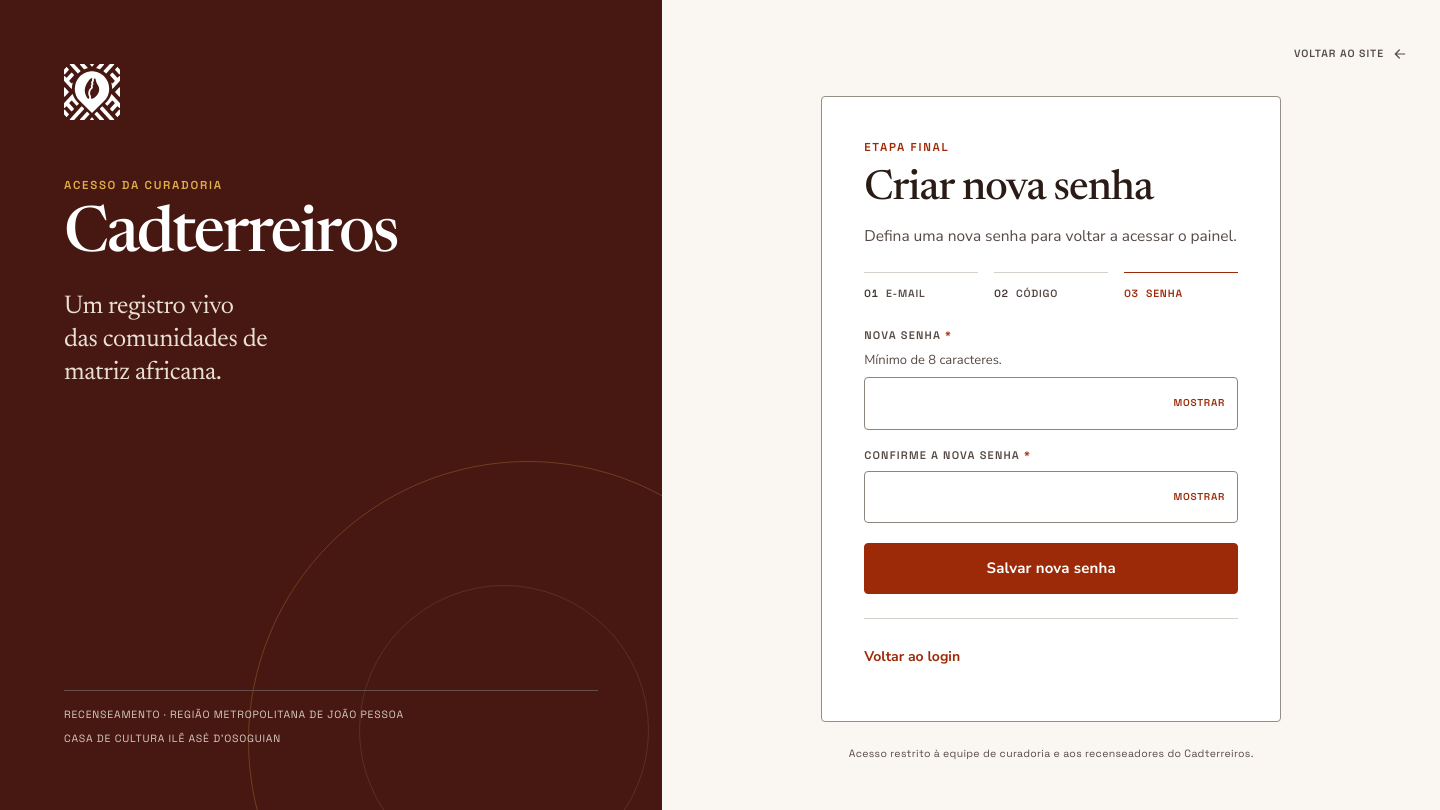
SetPassword › mostra a recusa da API com mensagem genérica
Step 1. Type "senha-segura" into the password field labelled "Nova senha *" → (1051, 404), box [864, 377, 1238, 430]
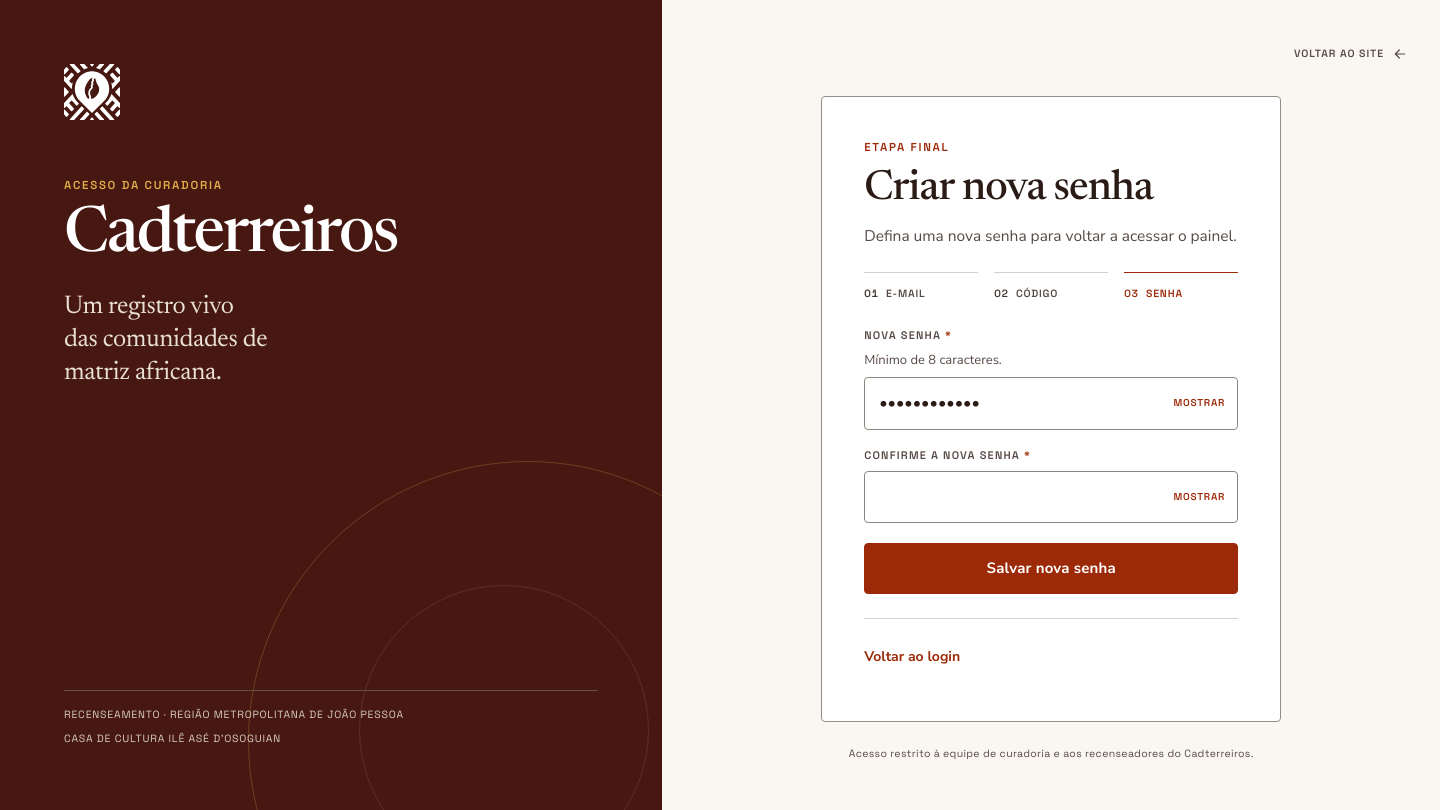
Step 2. Type "senha-segura" into the password field labelled "Confirme a nova senha *" → (1051, 497), box [864, 471, 1238, 523]
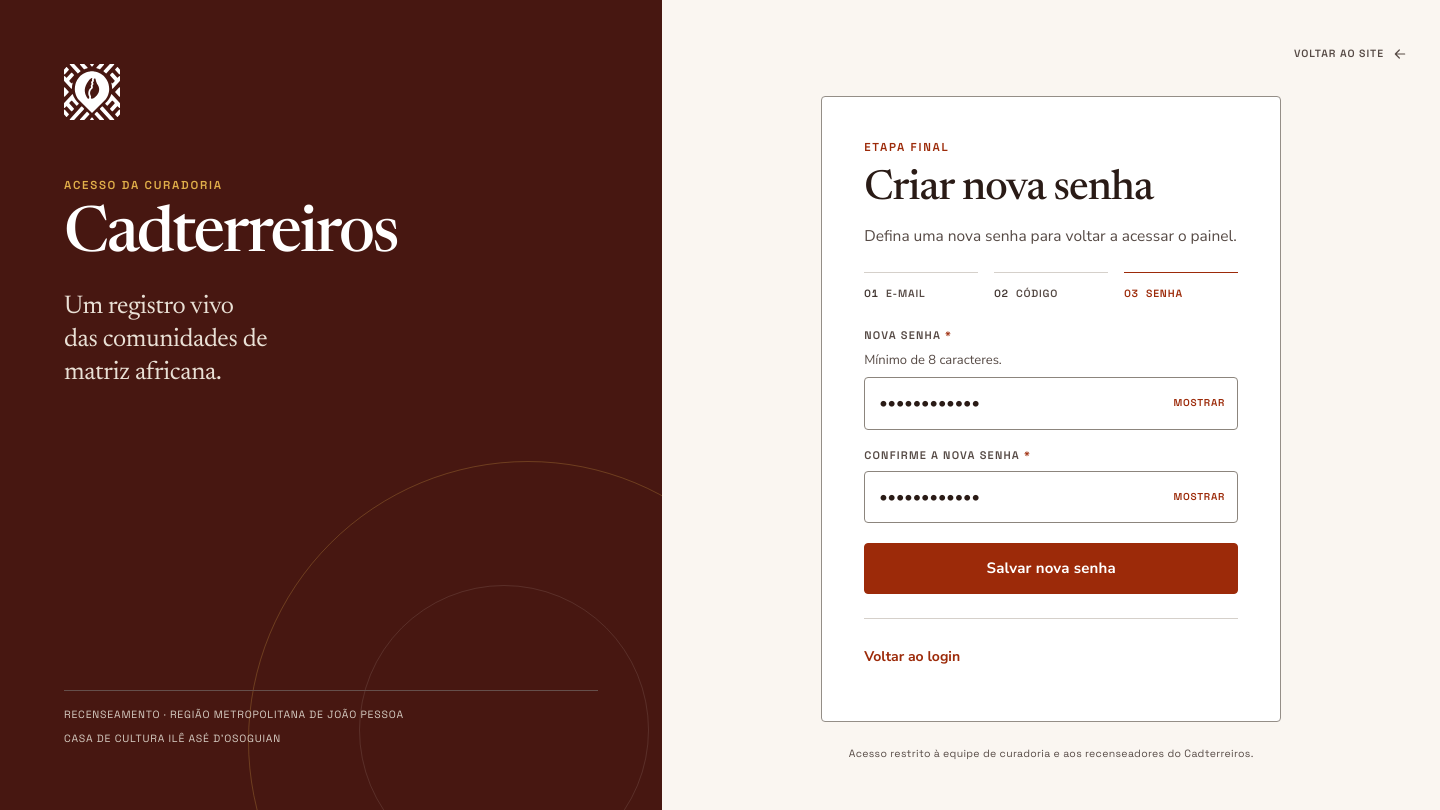
Step 3. Click the button "Salvar nova senha" → (1051, 569), box [864, 543, 1238, 594]
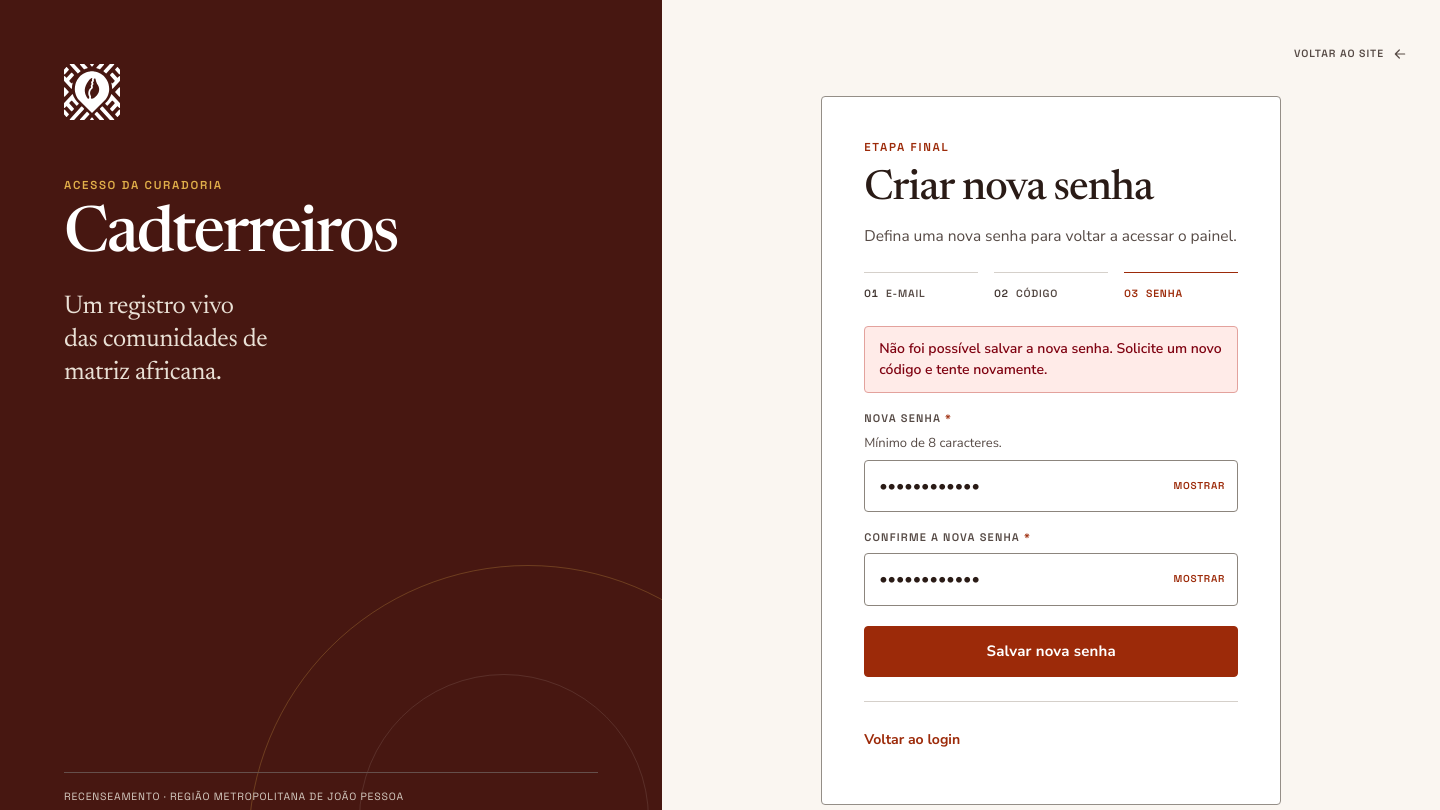
Result: the message shows "Não foi possível salvar a nova senha" at [879, 339, 1222, 379]
